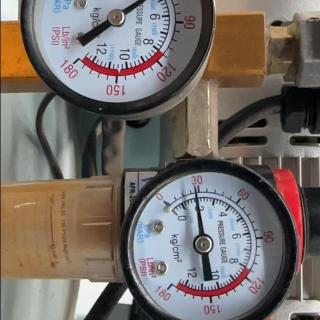gauge: (118, 157, 306, 319), (1, 0, 219, 122), (58, 46, 90, 76), (192, 233, 215, 255), (155, 193, 175, 215), (106, 8, 126, 27), (160, 278, 178, 296), (192, 182, 200, 192)
